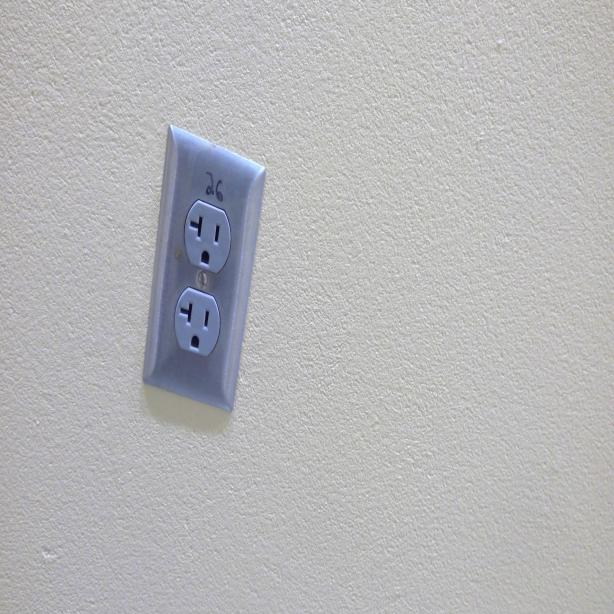typeb: (184, 202, 229, 275), (176, 288, 220, 356)
